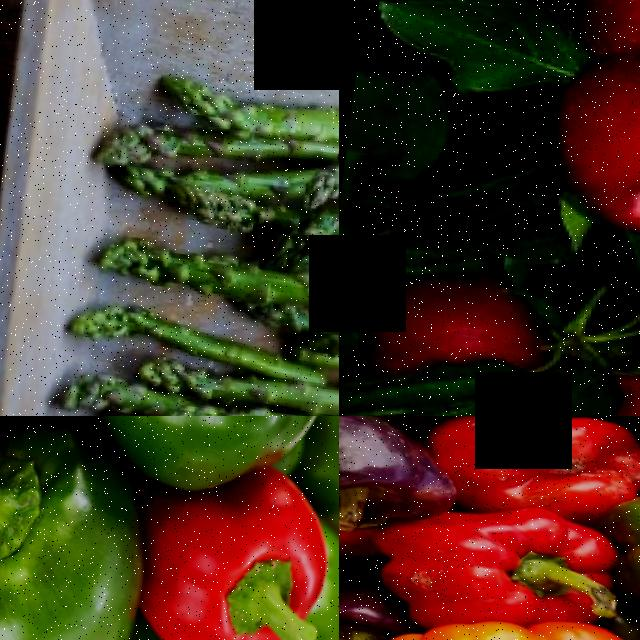apple: (363, 258, 554, 397), (543, 32, 640, 262)
asparagus: (112, 227, 339, 321), (167, 71, 339, 163), (129, 350, 339, 416)
bell pepper: (383, 499, 602, 640), (156, 485, 339, 640), (0, 463, 139, 640), (436, 416, 640, 512), (355, 599, 640, 640), (339, 416, 424, 527)
